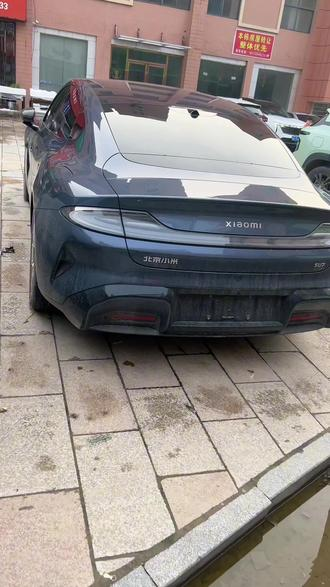su7: (23, 77, 330, 345)
